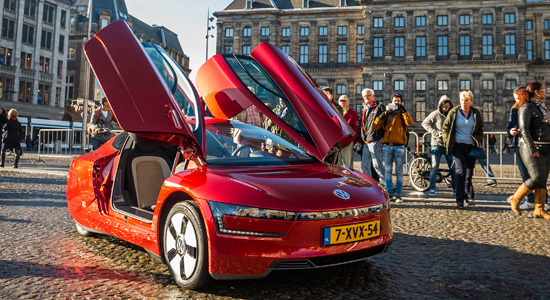kenteken: (321, 220, 382, 244)
